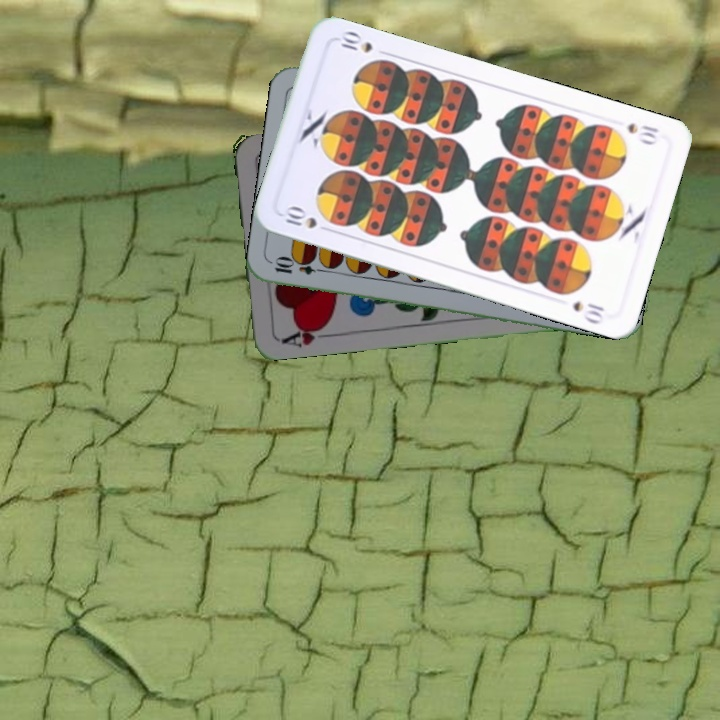E10: (271, 256, 330, 277)
HA: (277, 319, 336, 350)
S10: (277, 203, 320, 231), (623, 118, 662, 148)
